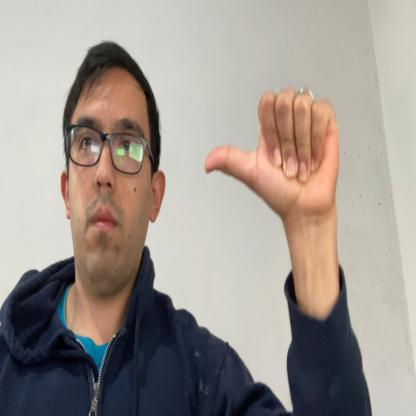A: (205, 85, 341, 213)
